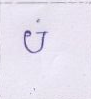anusvara: (36, 19, 40, 23)
